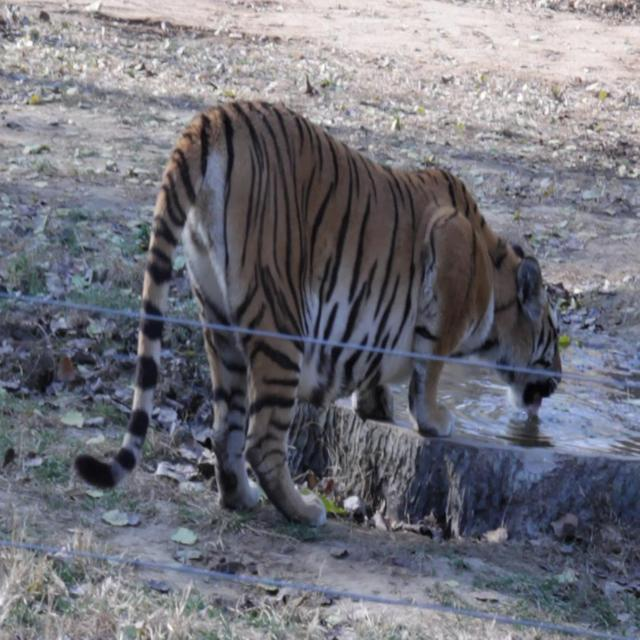tiger: (68, 83, 568, 539)
